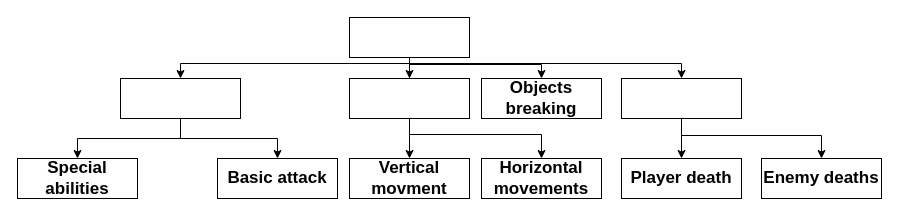
Image size: 899x216. Some labels were removed from this diagram. Here are the shapes that lost their labels. From the top down, the centre of each, then its label:
At pixel 409 37: "Animations".
At pixel 180 98: "Attacks".
At pixel 409 98: "Movements".
At pixel 681 98: "Death animations".
